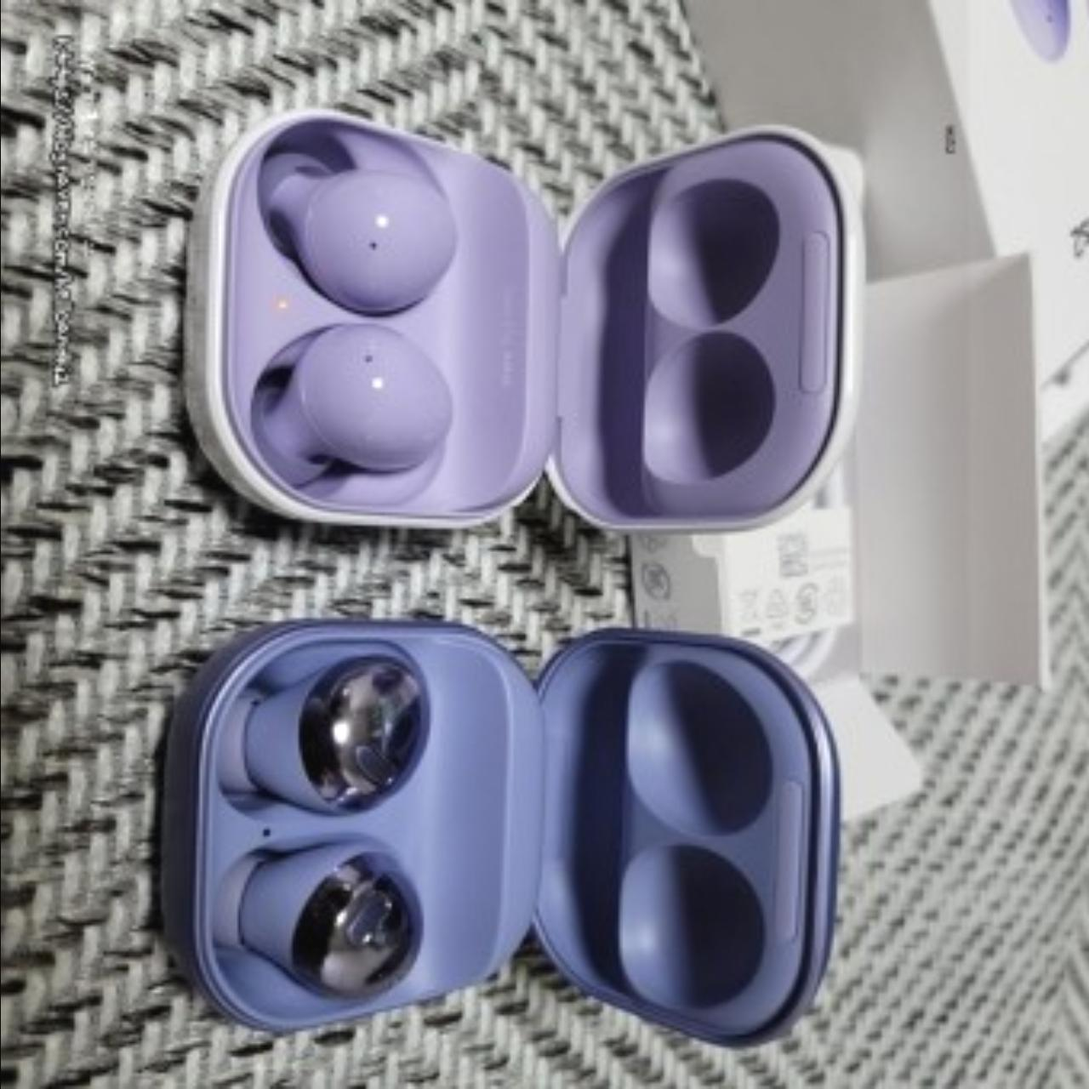Buds: (148, 610, 849, 1049), (174, 96, 861, 540)
Buds_Units: (207, 827, 426, 1012), (206, 649, 434, 821), (245, 319, 458, 498), (256, 144, 460, 320)
